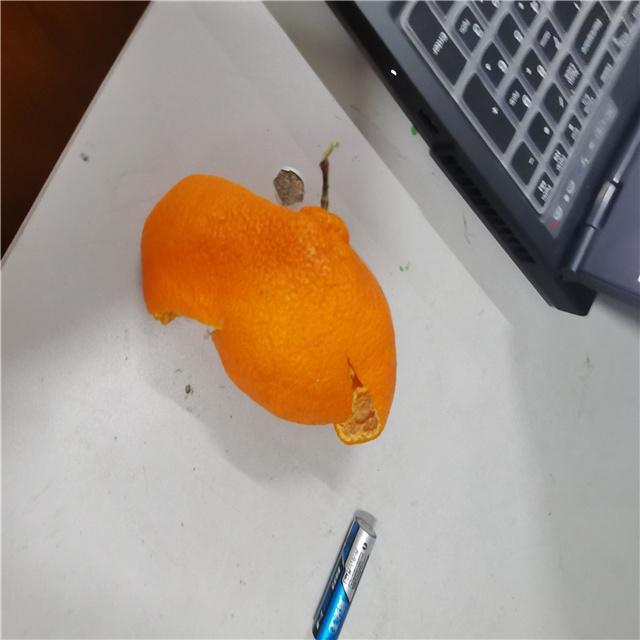orange peel: (134, 168, 400, 450)
